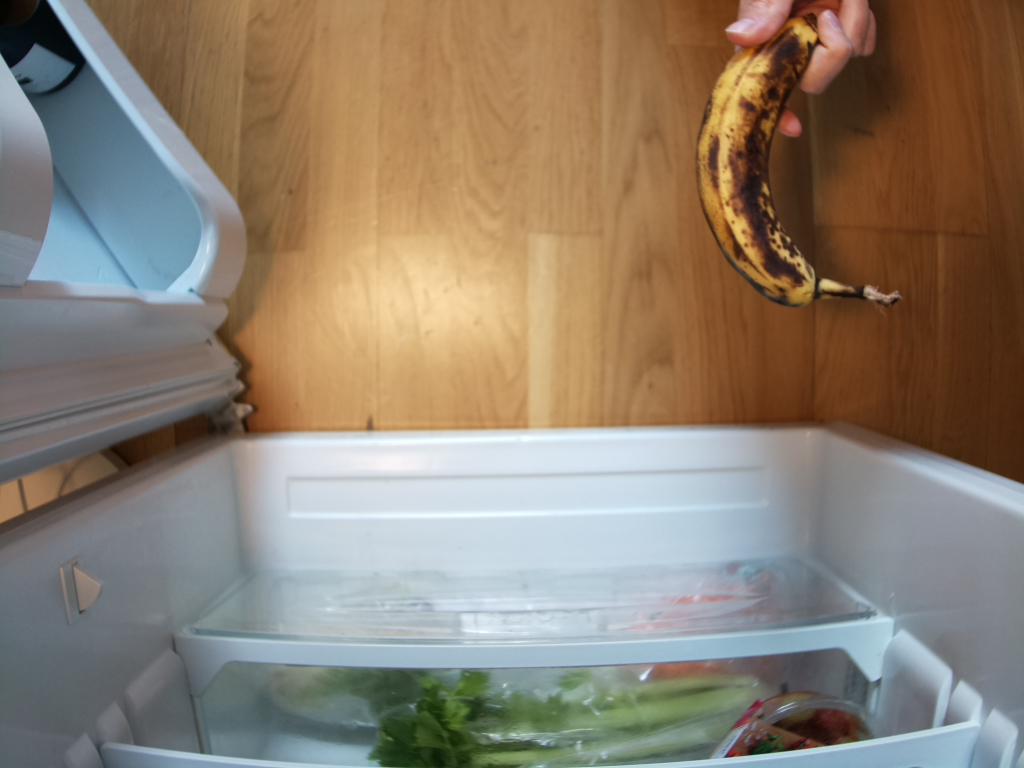banana-overripe: (698, 14, 903, 310)
